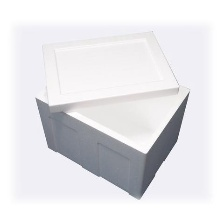foam_box: (28, 25, 198, 202)
